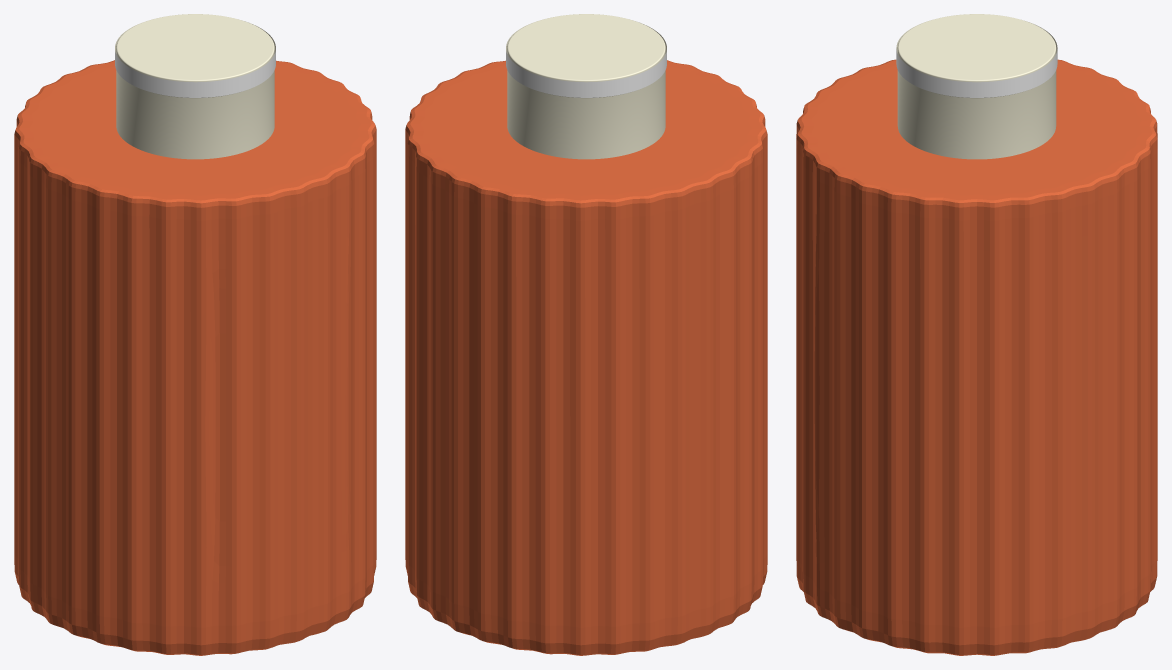
The model's file is bottle.glb.
The picture shows the model from 3 angles, left to right: view 1: azimuth 30°, elevation 25°; view 2: azimuth 150°, elevation 25°; view 3: azimuth 270°, elevation 25°; orthographic projection.
Parts seen in each view (by area): view 1: Bottle, Cap, Cap Gold; view 2: Bottle, Cap, Cap Gold; view 3: Bottle, Cap, Cap Gold.
Boxes of the visible parts, x1,y1,x2,y2 form: Bottle: (14, 60, 376, 655); Cap: (115, 14, 275, 159); Cap Gold: (115, 50, 275, 97); Bottle: (405, 60, 767, 655); Cap: (506, 14, 666, 159); Cap Gold: (506, 50, 666, 97); Bottle: (796, 59, 1157, 655); Cap: (896, 14, 1057, 159); Cap Gold: (896, 49, 1057, 97).
Size of the model in its own units: 1.85 by 3.05 by 1.85.
